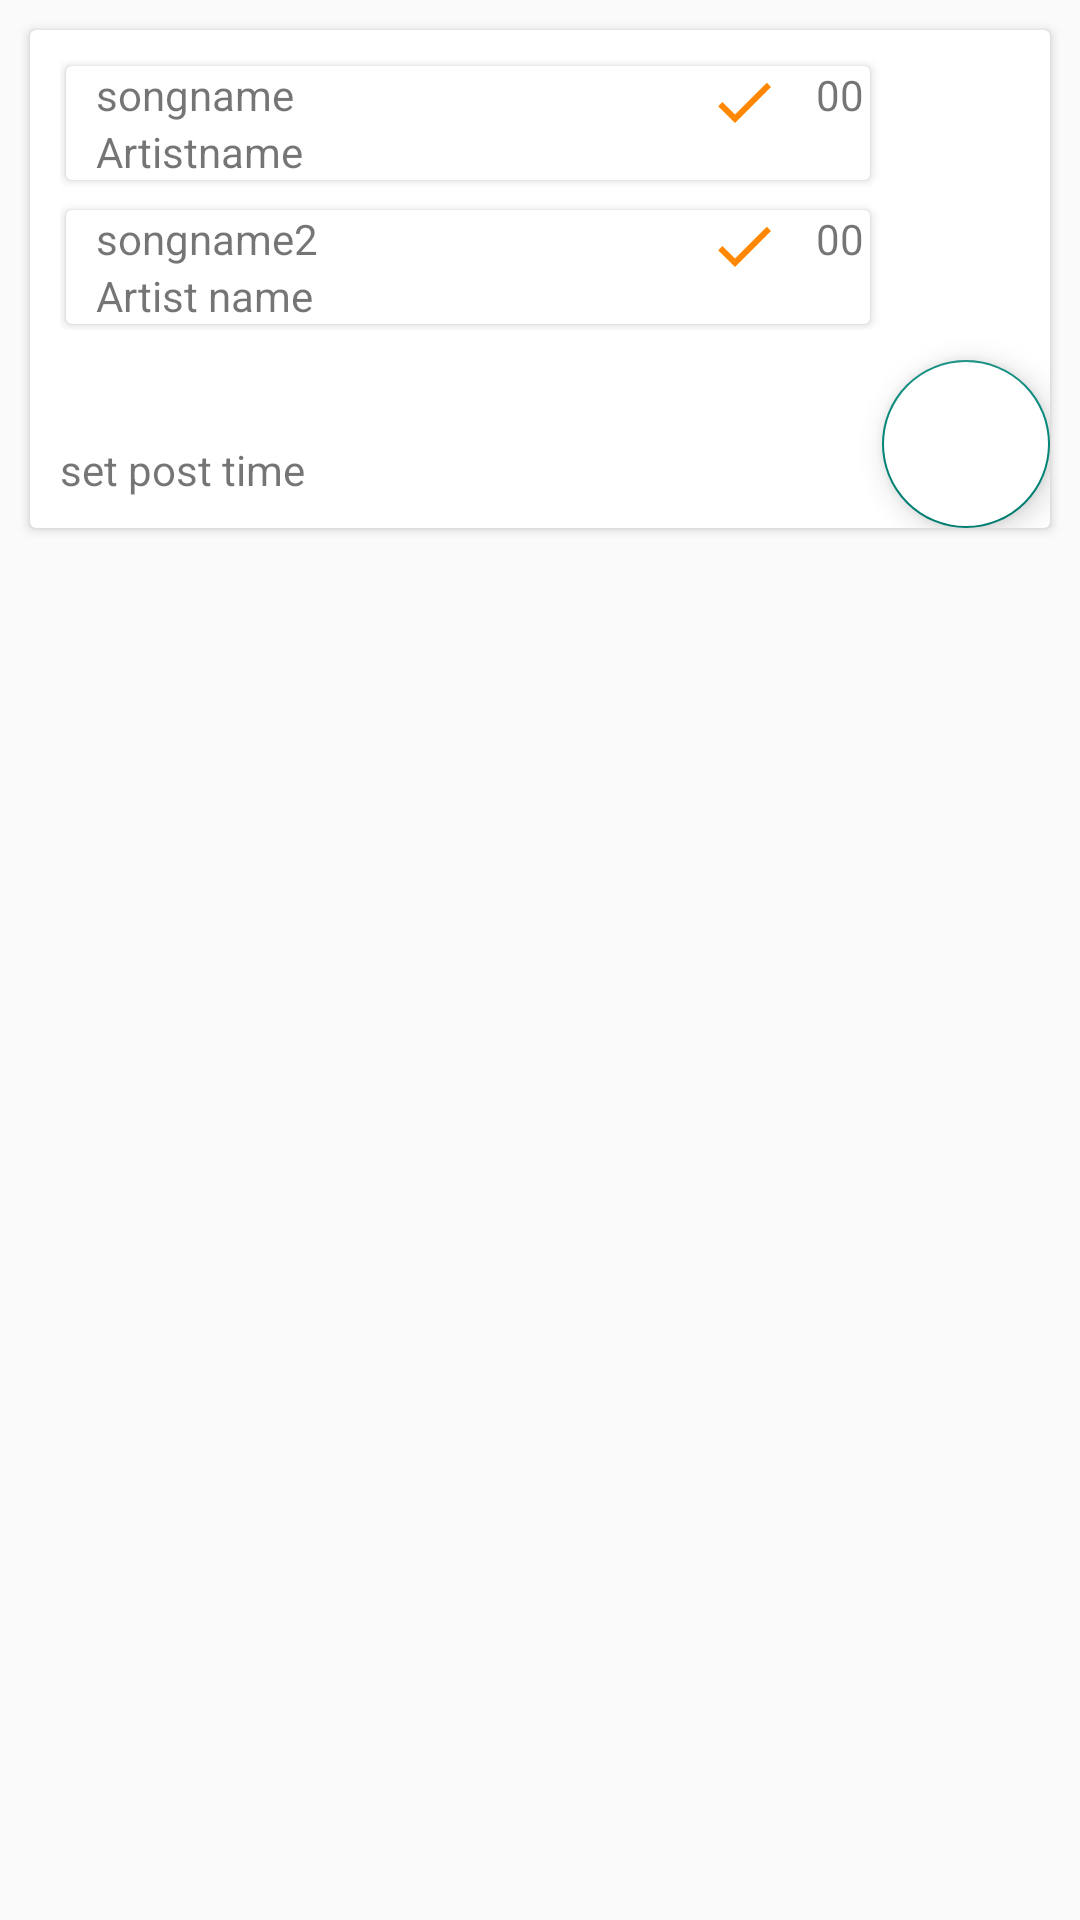

Icons on this 1080px×1920px Android screen, each with its box as rect(x1, y1, x2, y2):
done: rect(718, 83, 771, 123), rect(718, 227, 771, 267)
